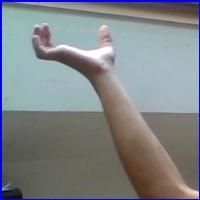space: (28, 18, 125, 84)
